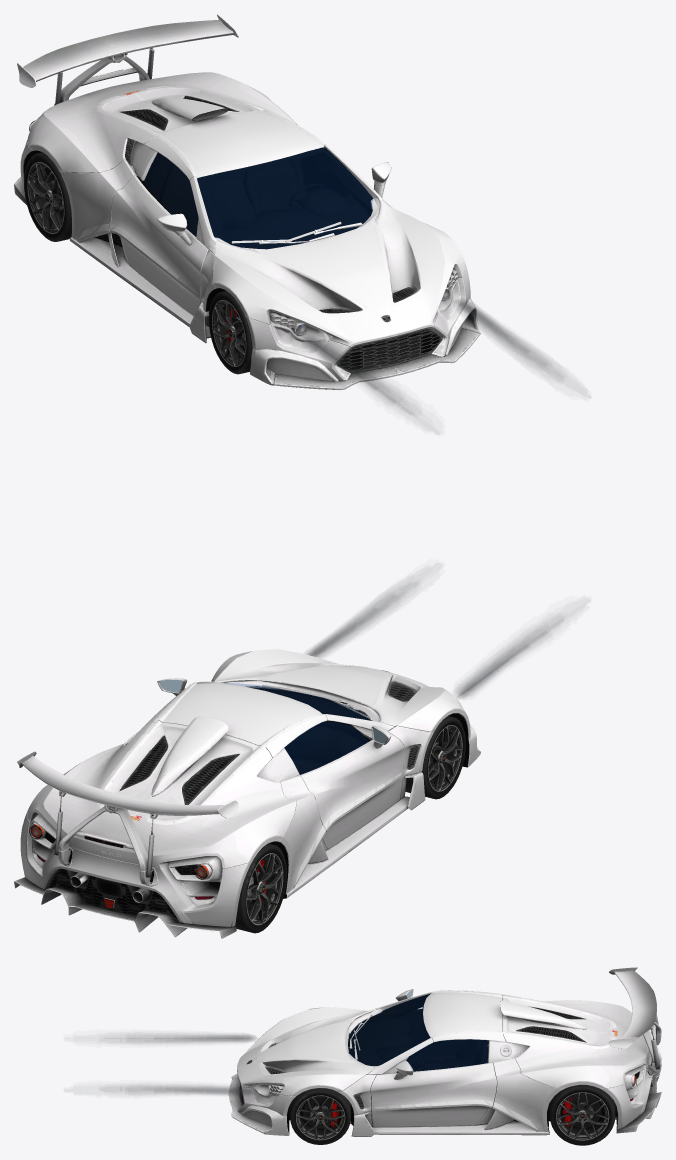
File: zenvo_tsr-s.glb
3 renders of one model, top to bottom at view 1: azimuth 30°, elevation 25°; view 2: azimuth 150°, elevation 25°; view 3: azimuth 270°, elevation 25°, orthographic. The views are drawn at different scales.
Parts seen in each view (by area): view 1: chassis_carpaint, chassis_carbone, glasses_glass, detach_door_R_55_carpaint, chassis_details, lights_position_front_and_back_glows, chassis_plastic, WheelBR_pivot_rims, detach_door_R_55_carbone, WheelFR_pivot_rims, chassis_decals, detach_door_L_55_pivot_carpaint (+2 smaller); view 2: chassis_carpaint, chassis_carbone, chassis_details, detach_door_R_55_carpaint, lights_position_front_and_back_glows, glasses_glass, chassis_plastic, WheelBR_pivot_rims, detach_door_R_55_carbone, chassis_decals, WheelFR_pivot_rims, WheelBR_pivot_tyres (+1 smaller); view 3: chassis_carpaint, chassis_carbone, glasses_glass, detach_door_L_55_pivot_carpaint, lights_position_front_and_back_glows, detach_door_L_55_pivot_carbone, WheelBL_pivot_rims, WheelFL_pivot_rims, chassis_plastic, WheelBL_pivot_tyres, chassis_decals, WheelFL_pivot_tyres (+3 smaller).
Boxes of the visible parts, left/top/right/bottom form: chassis_carpaint: left=15, top=14, right=480, bottom=389; chassis_carbone: left=14, top=19, right=480, bottom=389; glasses_glass: left=144, top=147, right=373, bottom=248; detach_door_R_55_carpaint: left=109, top=175, right=208, bottom=300; chassis_details: left=94, top=95, right=457, bottom=373; lights_position_front_and_back_glows: left=275, top=273, right=564, bottom=416; chassis_plastic: left=17, top=14, right=468, bottom=335; WheelBR_pivot_rims: left=27, top=161, right=64, bottom=234; detach_door_R_55_carbone: left=121, top=232, right=201, bottom=315; WheelFR_pivot_rims: left=212, top=299, right=246, bottom=366; chassis_decals: left=78, top=86, right=391, bottom=311; detach_door_L_55_pivot_carpaint: left=300, top=154, right=392, bottom=207; chassis_carpaint: left=14, top=649, right=470, bottom=938; chassis_carbone: left=14, top=665, right=480, bottom=938; chassis_details: left=30, top=681, right=420, bottom=923; detach_door_R_55_carpaint: left=300, top=725, right=404, bottom=831; lights_position_front_and_back_glows: left=31, top=581, right=565, bottom=877; glasses_glass: left=223, top=683, right=370, bottom=774; chassis_plastic: left=17, top=684, right=372, bottom=908; WheelBR_pivot_rims: left=246, top=853, right=283, bottom=925; detach_door_R_55_carbone: left=322, top=741, right=403, bottom=849; chassis_decals: left=97, top=665, right=390, bottom=884; WheelFR_pivot_rims: left=428, top=725, right=462, bottom=791; WheelBR_pivot_tyres: left=234, top=843, right=286, bottom=933; chassis_carpaint: left=231, top=967, right=661, bottom=1134; chassis_carbone: left=228, top=970, right=661, bottom=1136; glasses_glass: left=348, top=994, right=488, bottom=1071; detach_door_L_55_pivot_carpaint: left=370, top=1061, right=496, bottom=1111; lights_position_front_and_back_glows: left=99, top=1030, right=656, bottom=1095; detach_door_L_55_pivot_carbone: left=371, top=1073, right=488, bottom=1127; WheelBL_pivot_rims: left=556, top=1092, right=609, bottom=1140; WheelFL_pivot_rims: left=295, top=1095, right=345, bottom=1140; chassis_plastic: left=268, top=967, right=661, bottom=1094; WheelBL_pivot_tyres: left=549, top=1085, right=615, bottom=1145; chassis_decals: left=256, top=990, right=616, bottom=1129; WheelFL_pivot_tyres: left=290, top=1088, right=351, bottom=1144.
Size of what is drawn, in the model's own units: 0.0214 by 0.0129 by 0.0719.
9 materials, 8 textured.
